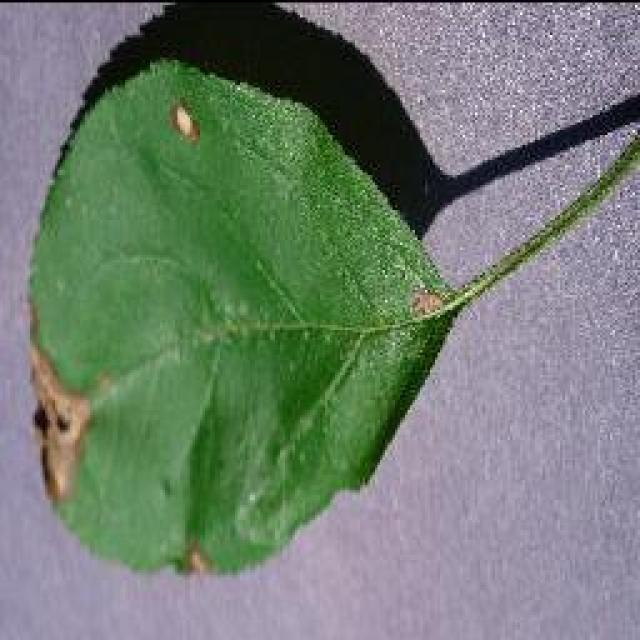apple black rot: (20, 0, 638, 578)
